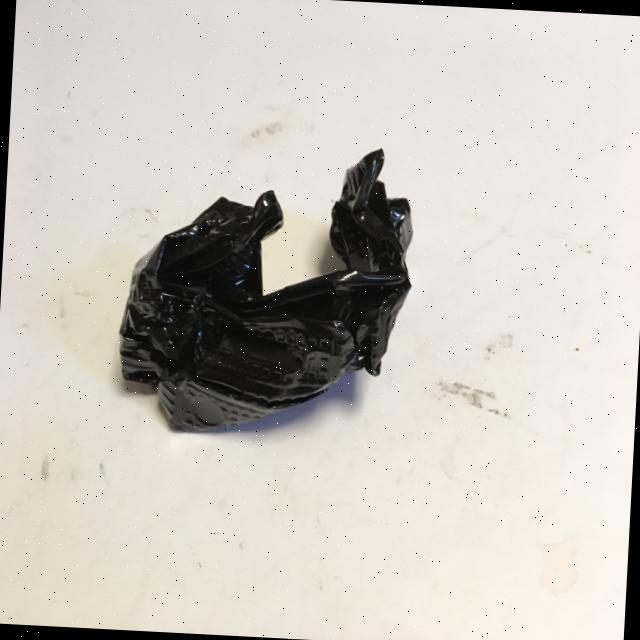plastic: (113, 133, 419, 444)
